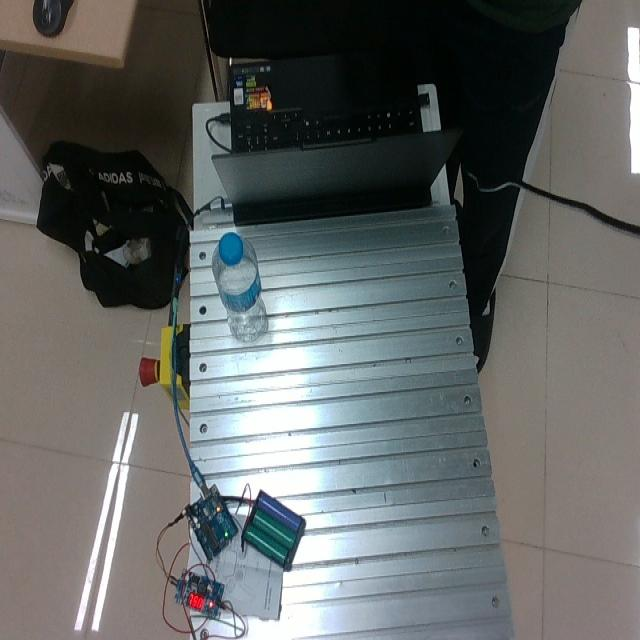lavie: (212, 232, 268, 343)
